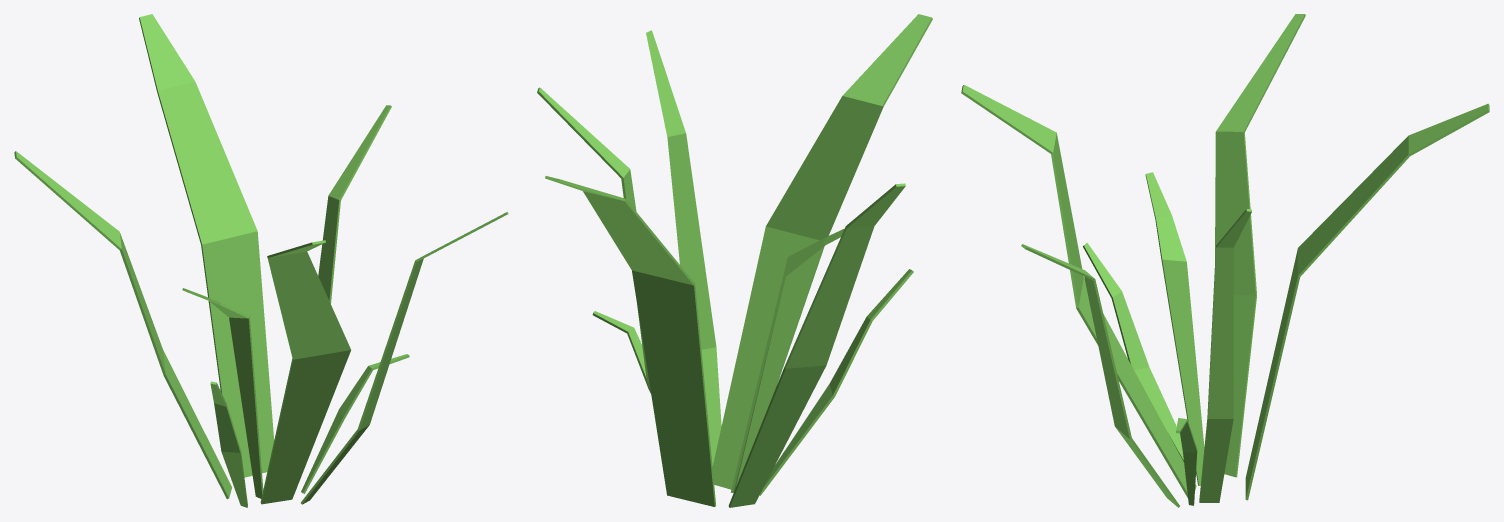
Rendered from Grass_2.fbx.
3 views of the same model, side by side, from view 1: azimuth 30°, elevation 25°; view 2: azimuth 150°, elevation 25°; view 3: azimuth 270°, elevation 25° (orthographic). The views are drawn at different scales.
Parts seen in each view (by area): view 1: Grass_2; view 2: Grass_2; view 3: Grass_2.
Boxes of the visible parts, x1,y1,x2,y2 form: Grass_2: (14, 14, 508, 507); Grass_2: (537, 14, 932, 507); Grass_2: (961, 14, 1489, 507).
Bounding box in the file's own units: 25.47 × 25.46 × 30.94.
